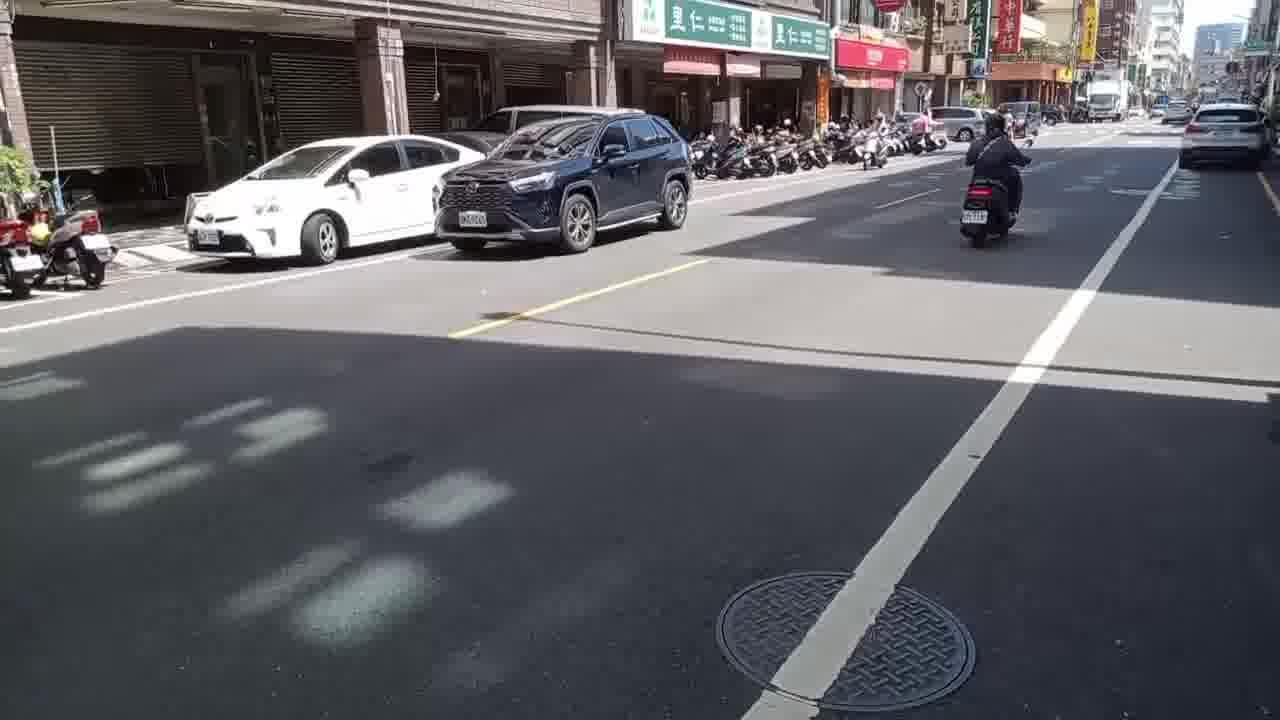driver: (952, 108, 1044, 262)
